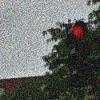traffic lights: (70, 23, 88, 42)
